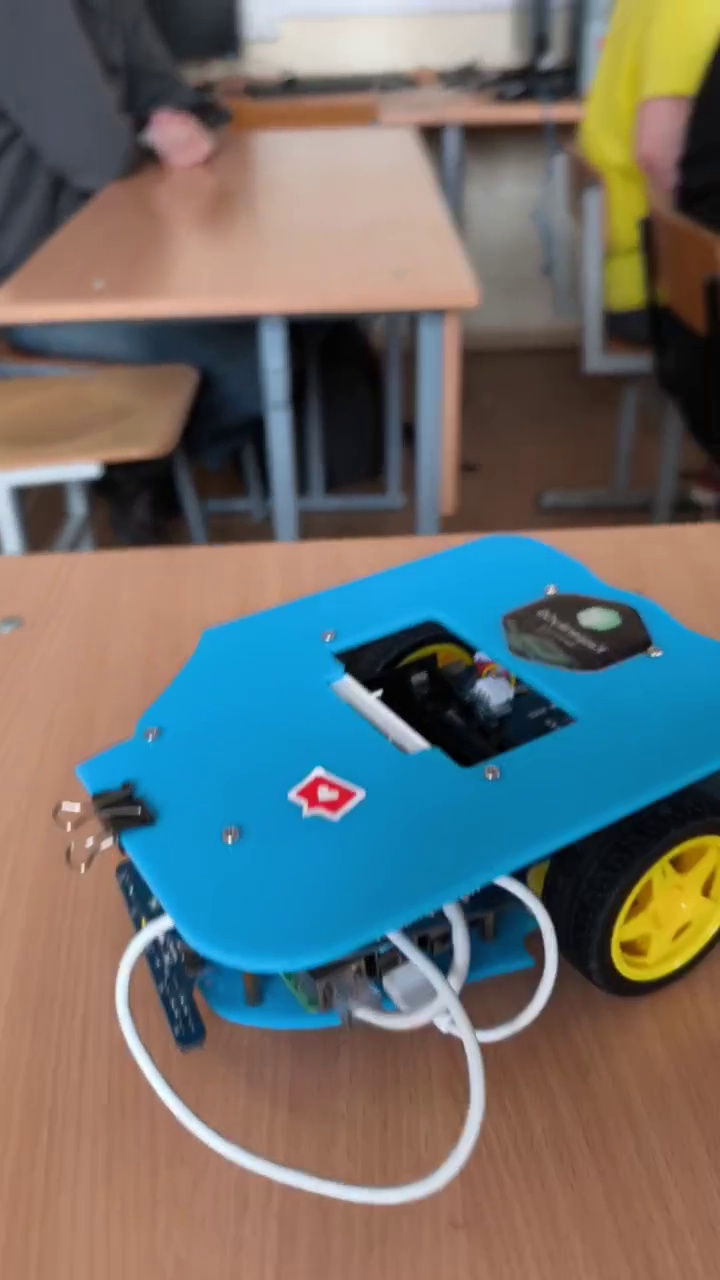robot: (51, 531, 720, 1210)
